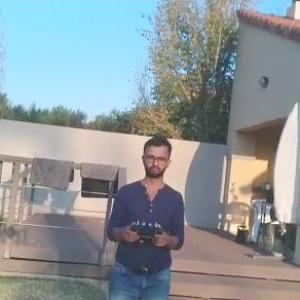follow: (100, 130, 189, 299)
